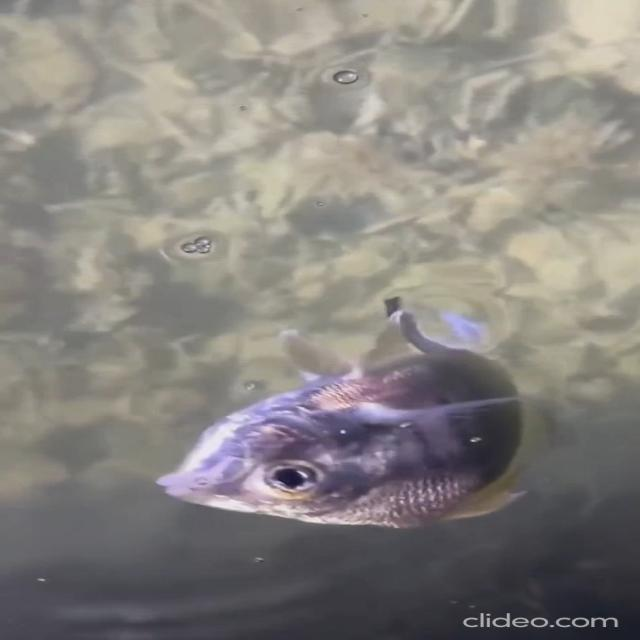fish: (145, 301, 585, 534)
